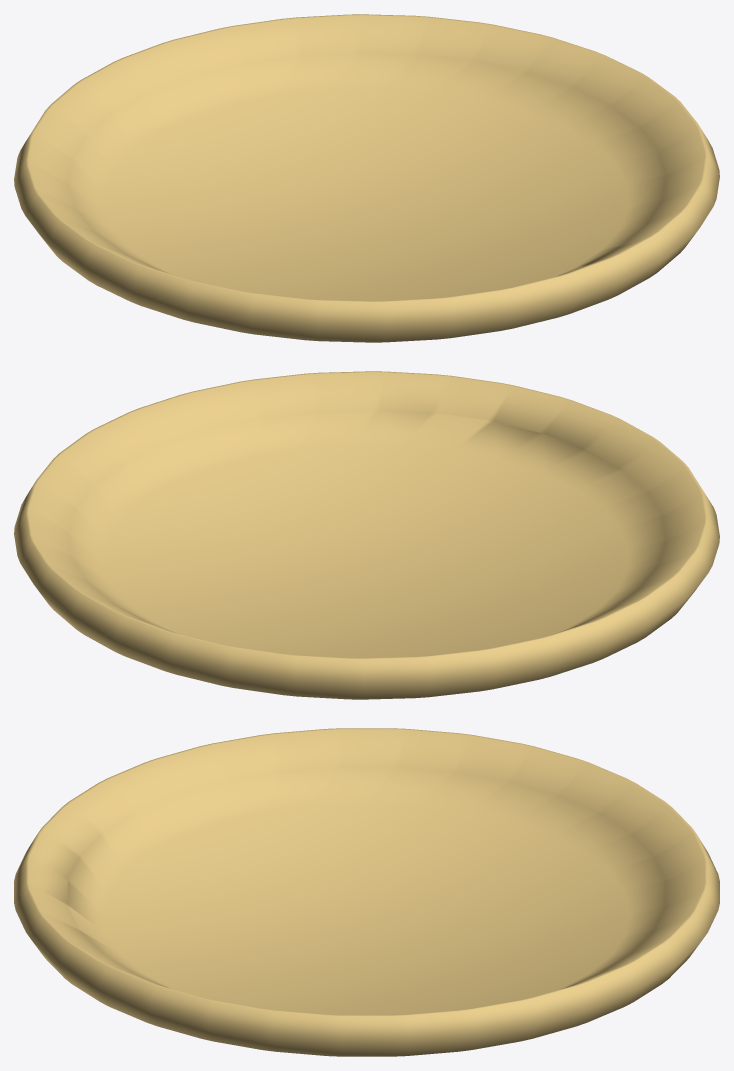
Rendered from Plate2.fbx.
The picture shows the model from 3 angles, top to bottom: view 1: azimuth 30°, elevation 25°; view 2: azimuth 150°, elevation 25°; view 3: azimuth 270°, elevation 25°; orthographic projection.
Visible parts, largest first — view 1: Plate1; view 2: Plate1; view 3: Plate1.
Boxes of the visible parts, x1,y1,x2,y2 form: Plate1: (14,14,719,342); Plate1: (14,371,719,699); Plate1: (14,728,719,1056).
Bounding box in the file's own units: 65.76 × 4.28 × 65.76.
